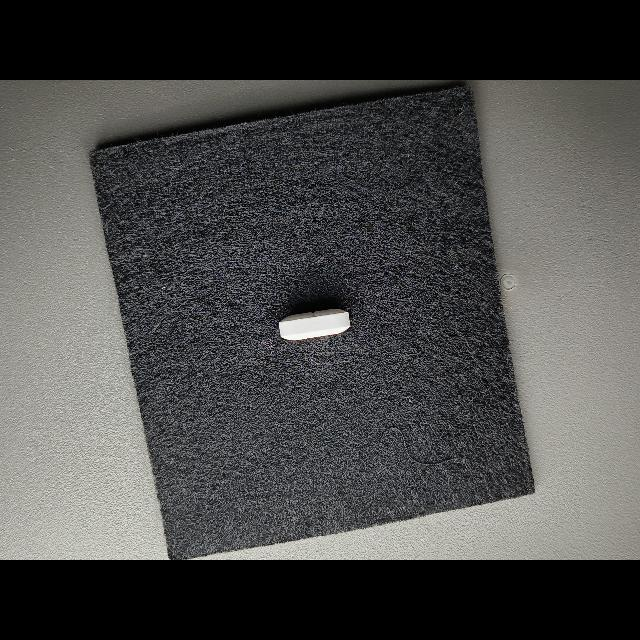Intact Pill: (278, 308, 350, 341)
